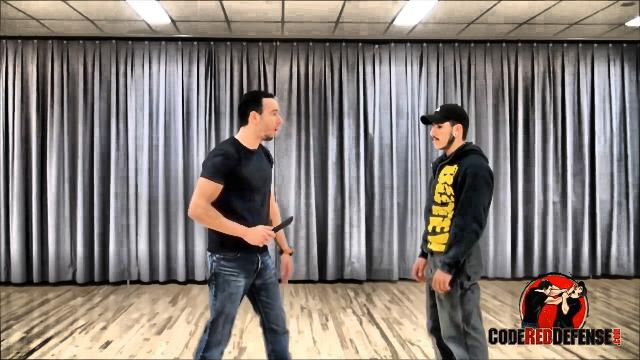knife: (256, 212, 294, 246)
